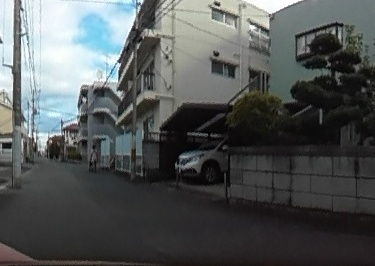person: (89, 144, 98, 172)
